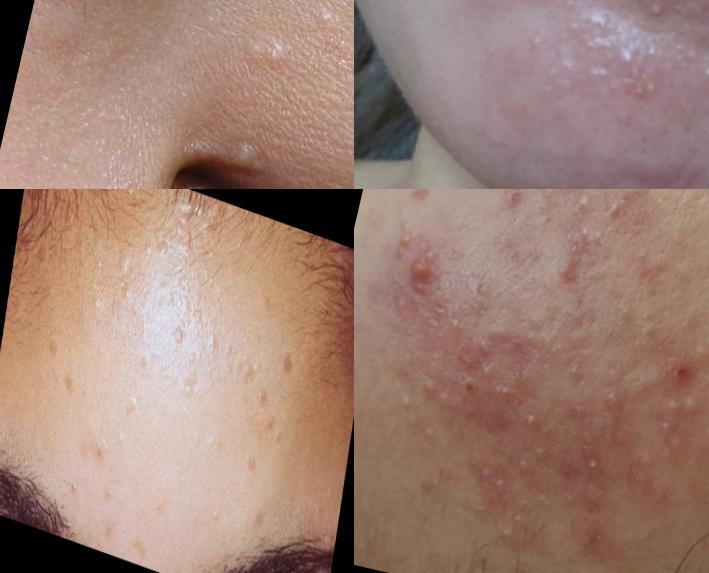flat_wart: (223, 23, 304, 82), (155, 314, 194, 356), (122, 380, 153, 432), (129, 342, 161, 388), (251, 384, 279, 416), (303, 173, 355, 190)
papular: (386, 259, 435, 306)
purulent: (628, 1, 670, 35), (552, 1, 593, 8)
sebo-crystan-conglo: (558, 1, 661, 70), (578, 51, 671, 111), (677, 1, 709, 33), (689, 56, 709, 94)
syringoma: (208, 130, 278, 190)
whitehead: (652, 391, 699, 452), (472, 511, 526, 562), (495, 440, 543, 489), (537, 59, 583, 105), (559, 190, 603, 230), (625, 308, 666, 350), (512, 401, 549, 438), (388, 385, 425, 420), (582, 448, 613, 488), (518, 26, 554, 56), (555, 355, 582, 394), (690, 408, 709, 457), (82, 288, 105, 327), (473, 357, 502, 386), (200, 319, 221, 359), (198, 425, 220, 463), (64, 475, 86, 509), (609, 104, 640, 128), (203, 497, 227, 528), (94, 482, 114, 516), (693, 232, 709, 274), (219, 338, 234, 365), (470, 1, 486, 5)
